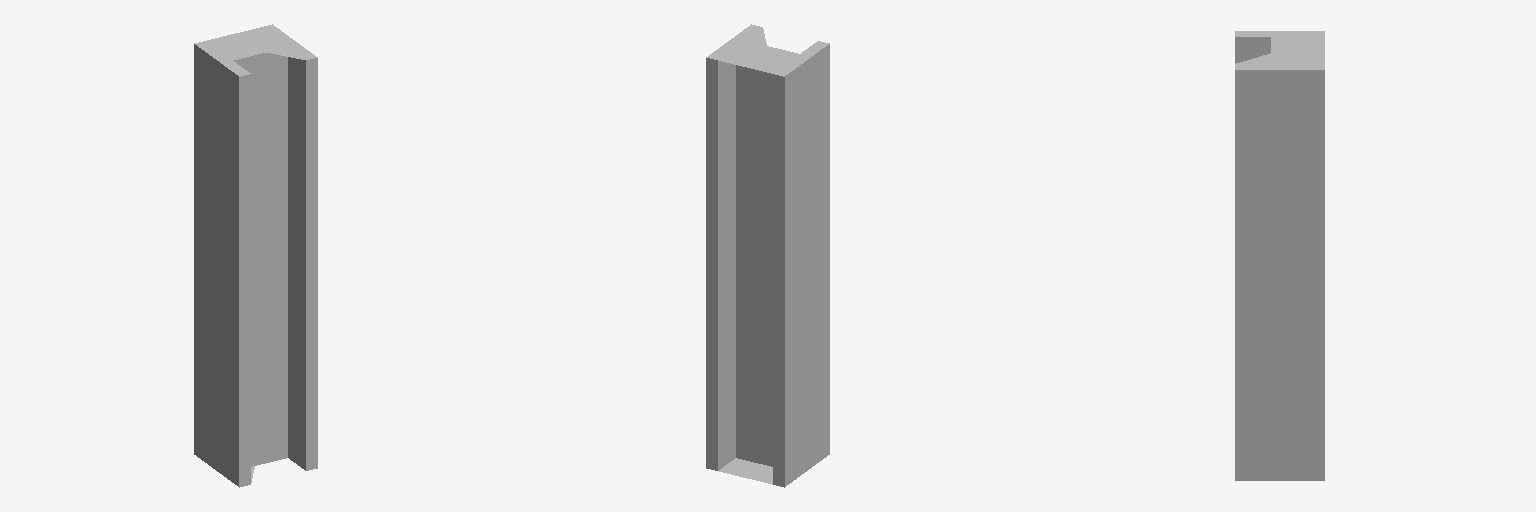
The model's file is T_Traeger_Vertikal.obj.
The picture shows the model from 3 angles: view 1: azimuth 30°, elevation 25°; view 2: azimuth 150°, elevation 25°; view 3: azimuth 270°, elevation 25°; orthographic projection.
Visible parts, largest first — view 1: T-Träger_1.001; view 2: T-Träger_1.001; view 3: T-Träger_1.001.
Boxes of the visible parts, <box> form: T-Träger_1.001: <box>194,24,317,487</box>; T-Träger_1.001: <box>706,24,829,487</box>; T-Träger_1.001: <box>1235,31,1324,480</box>.
Size of the model in its own units: 0.4 by 2 by 0.4.